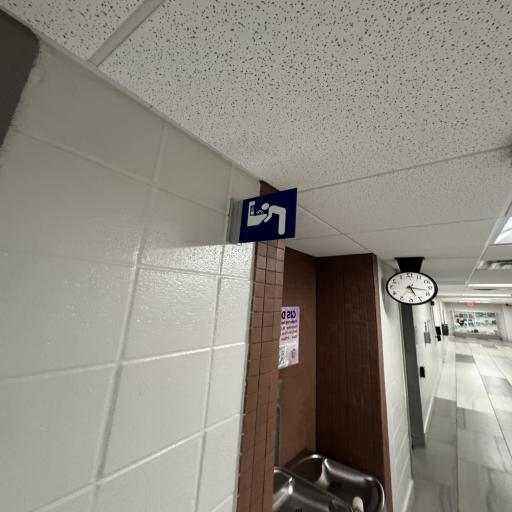clock: (384, 252, 439, 306)
water fountain: (266, 446, 390, 512)
water fountain sign: (223, 184, 299, 250)
